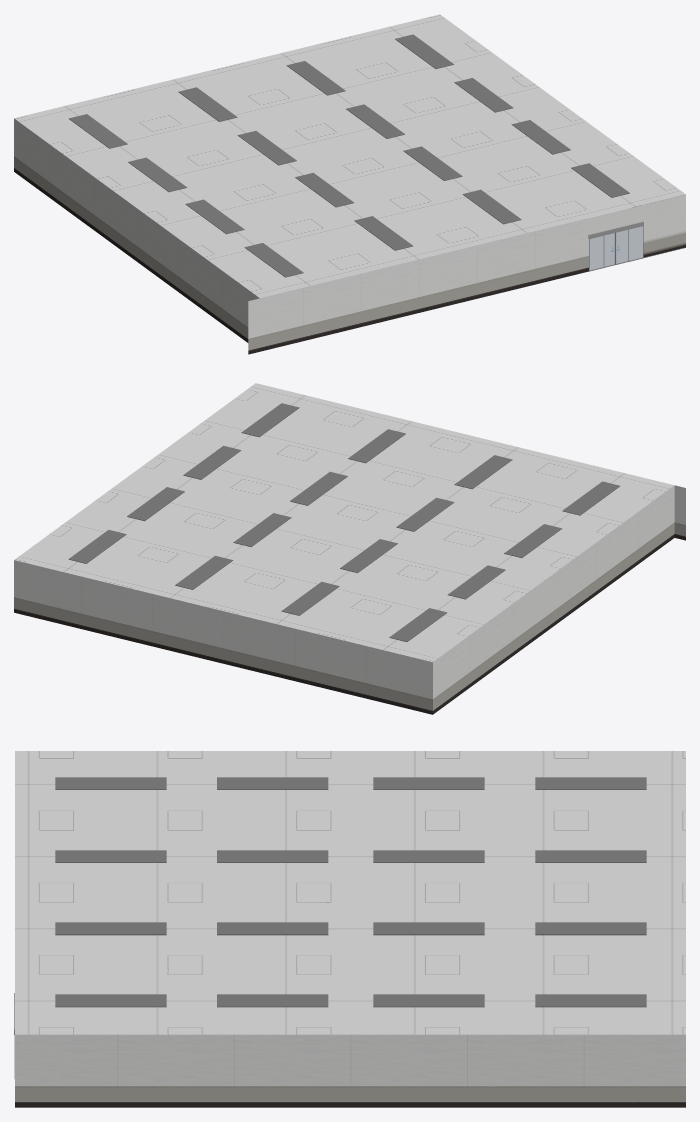
The model's file is fierd02.fbx.
3 views of the same model, one above another, from view 1: azimuth 30°, elevation 25°; view 2: azimuth 150°, elevation 25°; view 3: azimuth 270°, elevation 25° (orthographic). The views are drawn at different scales.
Parts seen in each view (by area): view 1: tenjyou, wall_yoko2, wall_tate1, light13, wall_yoko3, wall_yoko4, pCube36, pCube37; view 2: tenjyou, wall_yoko1, wall_tate1, light13, wall_yoko2; view 3: tenjyou, wall_tate2, light13.
Part boxes in pixels (<box>): tenjyou: <box>14,14,685,298</box>; wall_yoko2: <box>248,218,589,354</box>; wall_tate1: <box>14,118,259,342</box>; light13: <box>68,34,629,277</box>; wall_yoko3: <box>643,194,685,257</box>; wall_yoko4: <box>588,205,643,235</box>; pCube36: <box>589,235,604,271</box>; pCube37: <box>628,226,643,261</box>; tenjyou: <box>14,383,673,662</box>; wall_yoko1: <box>14,560,432,714</box>; wall_tate1: <box>433,485,674,714</box>; light13: <box>68,403,619,641</box>; wall_yoko2: <box>674,485,685,540</box>; tenjyou: <box>15,751,685,1034</box>; wall_tate2: <box>15,1034,685,1107</box>; light13: <box>55,777,646,1007</box>.
Size of the model in its own units: 5136 by 606 by 5008.
Materials: 8 (5 with a texture image).
